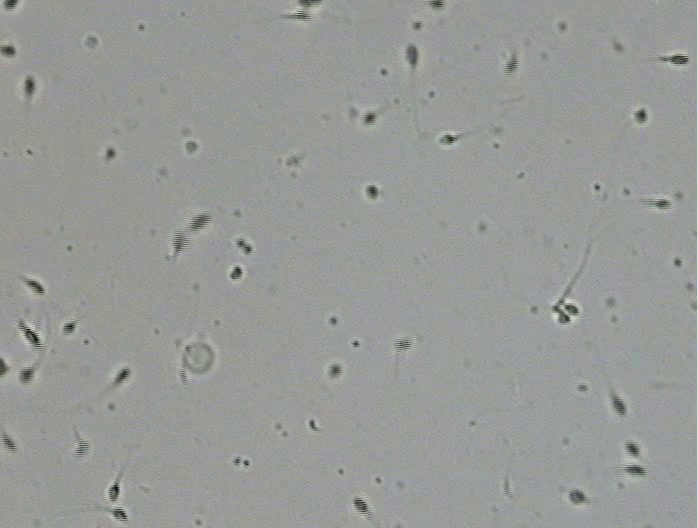Impurity: (183, 342, 215, 373), (84, 35, 98, 49)
S: (188, 213, 211, 232), (173, 231, 190, 252), (26, 278, 45, 295), (622, 464, 646, 477), (2, 435, 19, 453), (353, 496, 369, 515), (612, 395, 626, 416), (624, 441, 640, 459), (406, 44, 419, 65), (290, 9, 311, 22), (504, 55, 518, 74), (114, 368, 129, 385), (112, 507, 129, 522), (569, 489, 586, 504), (23, 75, 35, 96), (24, 328, 39, 344), (19, 368, 34, 384), (327, 363, 342, 379), (669, 54, 690, 65), (76, 441, 91, 456), (395, 337, 411, 351), (634, 108, 648, 123), (109, 484, 120, 503), (365, 185, 379, 199), (1, 45, 16, 58), (230, 265, 243, 280), (439, 134, 456, 145), (298, 1, 321, 9), (61, 322, 75, 335), (654, 199, 672, 209), (363, 112, 377, 124), (564, 303, 578, 315), (185, 141, 198, 153), (3, 1, 18, 11), (1, 357, 8, 377), (430, 1, 445, 10), (104, 148, 116, 159), (558, 312, 570, 323)
